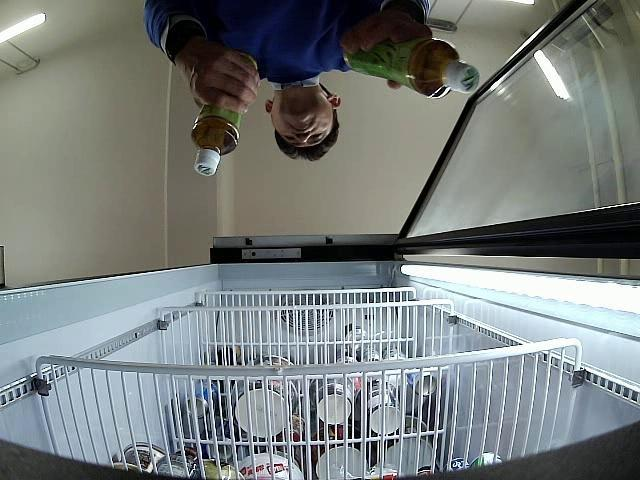19_17cha: (349, 40, 480, 100), (192, 102, 246, 178)
